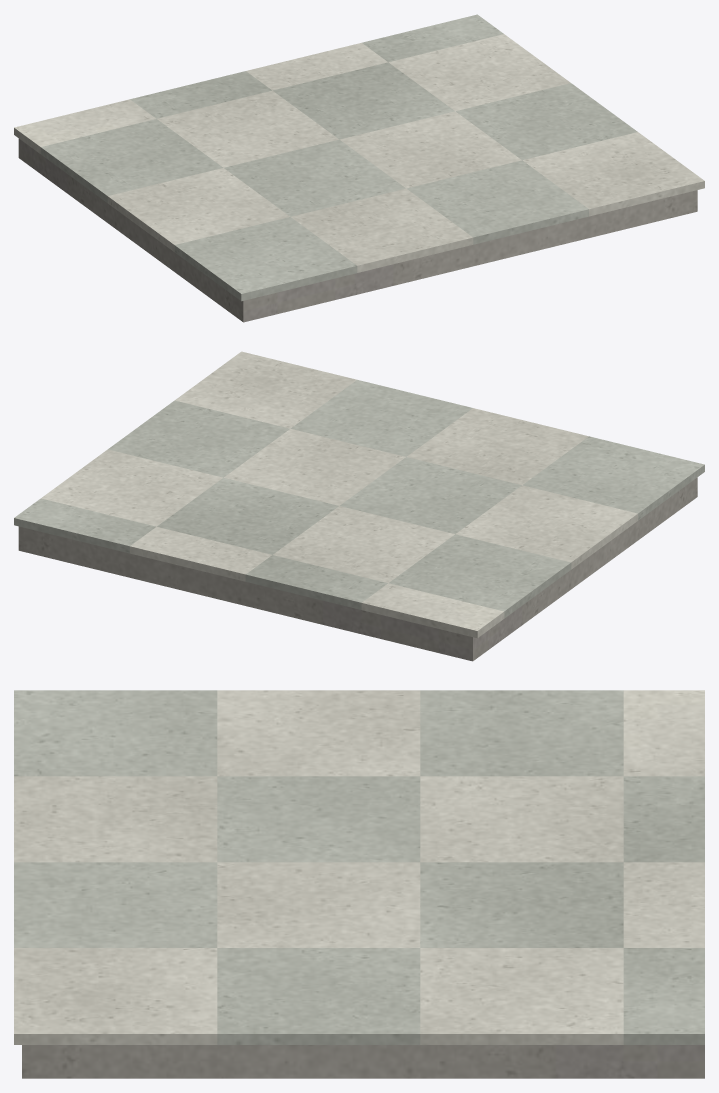
The model's file is floor_vct_g_e0_0_30_0.glb.
3 views of the same model, one above another, from view 1: azimuth 30°, elevation 25°; view 2: azimuth 150°, elevation 25°; view 3: azimuth 270°, elevation 25° (orthographic). The views are drawn at different scales.
Parts seen in each view (by area): view 1: floor_vct_g_e0_0_30_0_vct2, floor_vct_g_e0_0_30_0_vct, floor_vct_g_e0_0_30_0_concrete; view 2: floor_vct_g_e0_0_30_0_vct2, floor_vct_g_e0_0_30_0_vct, floor_vct_g_e0_0_30_0_concrete; view 3: floor_vct_g_e0_0_30_0_vct, floor_vct_g_e0_0_30_0_vct2, floor_vct_g_e0_0_30_0_concrete.
Boxes of the visible parts, bbox=[...] form: floor_vct_g_e0_0_30_0_vct2: bbox=[40, 14, 637, 301]; floor_vct_g_e0_0_30_0_vct: bbox=[14, 34, 704, 272]; floor_vct_g_e0_0_30_0_concrete: bbox=[18, 138, 697, 322]; floor_vct_g_e0_0_30_0_vct2: bbox=[14, 380, 704, 618]; floor_vct_g_e0_0_30_0_vct: bbox=[41, 351, 637, 638]; floor_vct_g_e0_0_30_0_concrete: bbox=[18, 477, 697, 661]; floor_vct_g_e0_0_30_0_vct: bbox=[14, 690, 704, 1044]; floor_vct_g_e0_0_30_0_vct2: bbox=[14, 690, 704, 1044]; floor_vct_g_e0_0_30_0_concrete: bbox=[22, 1045, 704, 1078].
Bounding box in the file's own units: 2 × 0.13 × 1.7.
3 materials, 3 textured.
